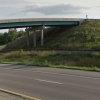Bridge: (4, 10, 72, 44)
